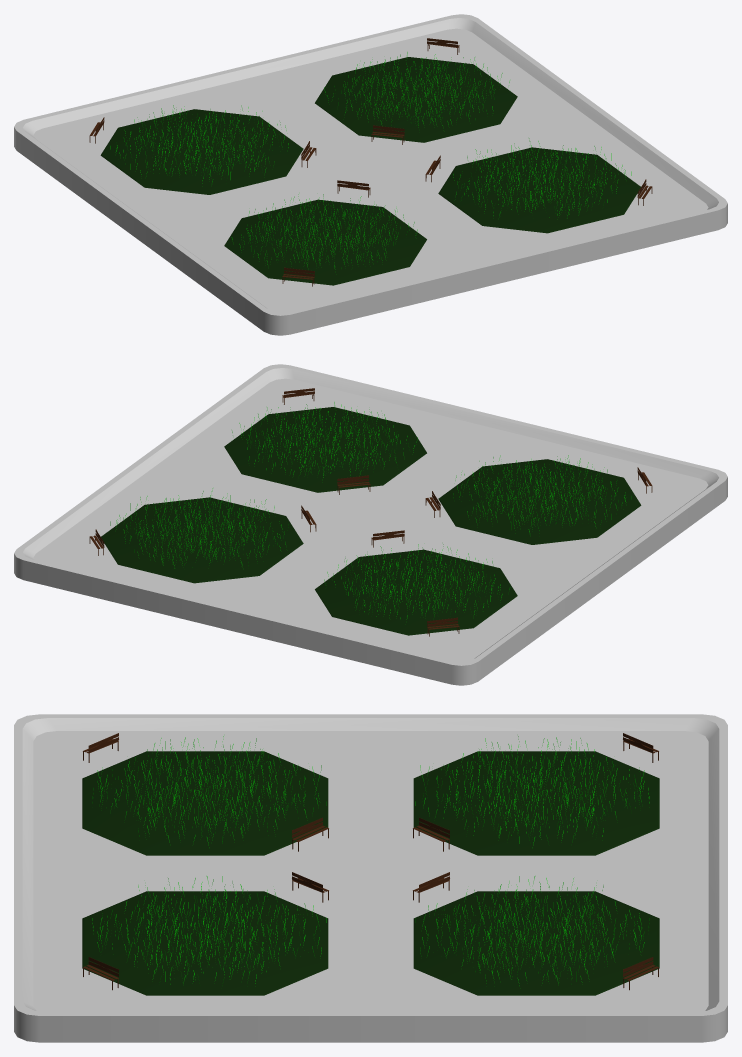
Rendered from green_1.obj.
3 views of the same model, one above another, from view 1: azimuth 30°, elevation 25°; view 2: azimuth 150°, elevation 25°; view 3: azimuth 270°, elevation 25° (orthographic). The views are drawn at different scales.
Parts seen in each view (by area): view 1: Ground_Material.001, Soil_Material.003, Grass_Material.004, Banks_Material.005; view 2: Ground_Material.001, Soil_Material.003, Grass_Material.004, Banks_Material.005; view 3: Ground_Material.001, Soil_Material.003, Grass_Material.004, Banks_Material.005.
Part boxes in pixels (x1,y1,x2,y2): Ground_Material.001: (14,14,727,335); Soil_Material.003: (100,57,640,285); Grass_Material.004: (110,52,631,269); Banks_Material.005: (89,38,652,286); Ground_Material.001: (14,364,727,685); Soil_Material.003: (101,407,641,635); Grass_Material.004: (110,402,631,619); Banks_Material.005: (89,388,652,636); Ground_Material.001: (14,714,727,1042); Soil_Material.003: (82,751,659,995); Grass_Material.004: (92,736,649,985); Banks_Material.005: (83,733,658,990).
Bounding box in the file's own units: 1 × 0.0628 × 1.
